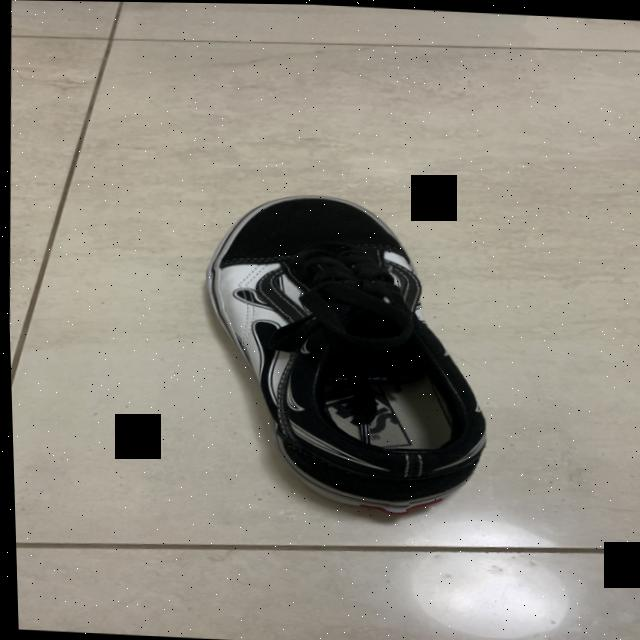shoes: (189, 186, 495, 520)
